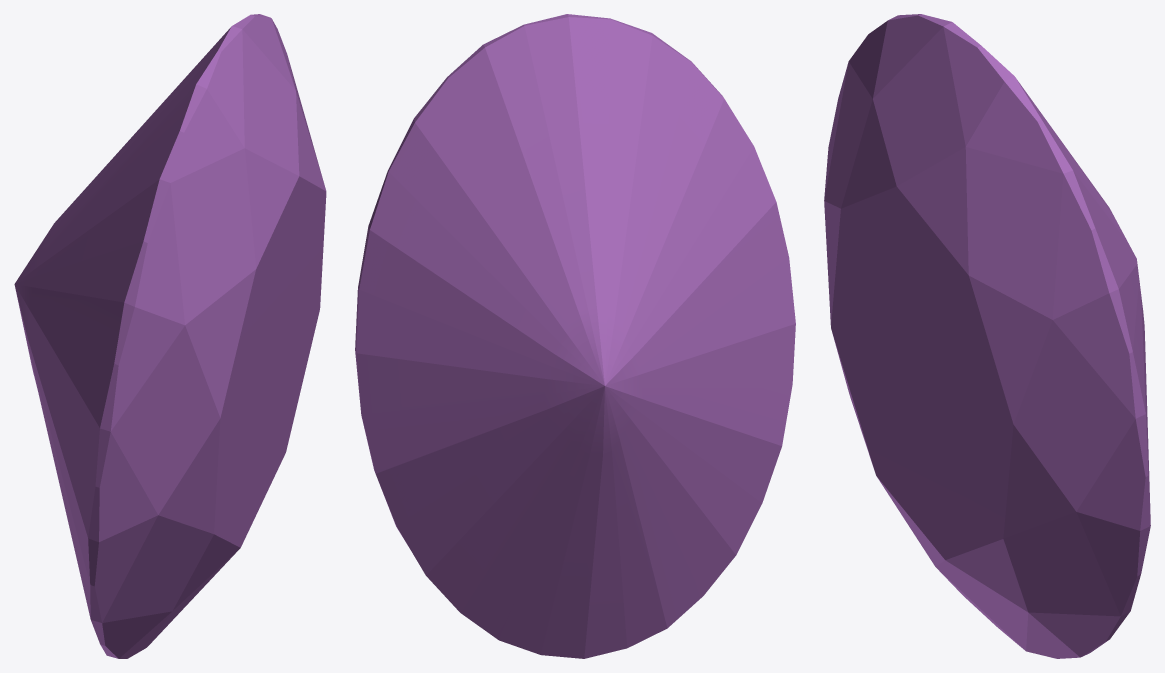
The model's file is BR3_8shapes_Oval_Classic_Stone.001 2.glb.
The picture shows the model from 3 angles, left to right: view 1: azimuth 30°, elevation 25°; view 2: azimuth 150°, elevation 25°; view 3: azimuth 270°, elevation 25°; orthographic projection. The views are drawn at different scales.
Visible parts, largest first — view 1: BR3_8shapes_Oval_Classic_Stone.001; view 2: BR3_8shapes_Oval_Classic_Stone.001; view 3: BR3_8shapes_Oval_Classic_Stone.001.
Part boxes in pixels (left/top/right/bottom): BR3_8shapes_Oval_Classic_Stone.001: left=14, top=14, right=326, bottom=658; BR3_8shapes_Oval_Classic_Stone.001: left=355, top=14, right=795, bottom=658; BR3_8shapes_Oval_Classic_Stone.001: left=824, top=14, right=1150, bottom=658.
Bounding box in the file's own units: 0.3289 × 0.6193 × 0.2803.
